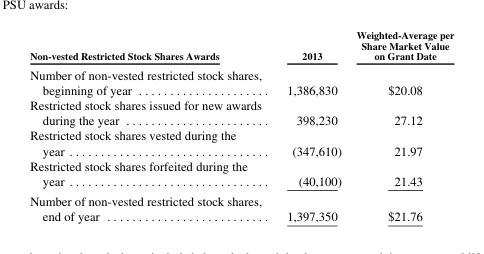table: (29, 29, 453, 223)
table column: (29, 29, 273, 223), (348, 29, 453, 223), (273, 29, 348, 223)
table column header: (29, 29, 453, 64)
table row: (29, 29, 453, 64), (29, 64, 453, 97), (29, 157, 453, 190), (29, 190, 453, 223), (29, 97, 453, 127), (29, 127, 453, 157)
